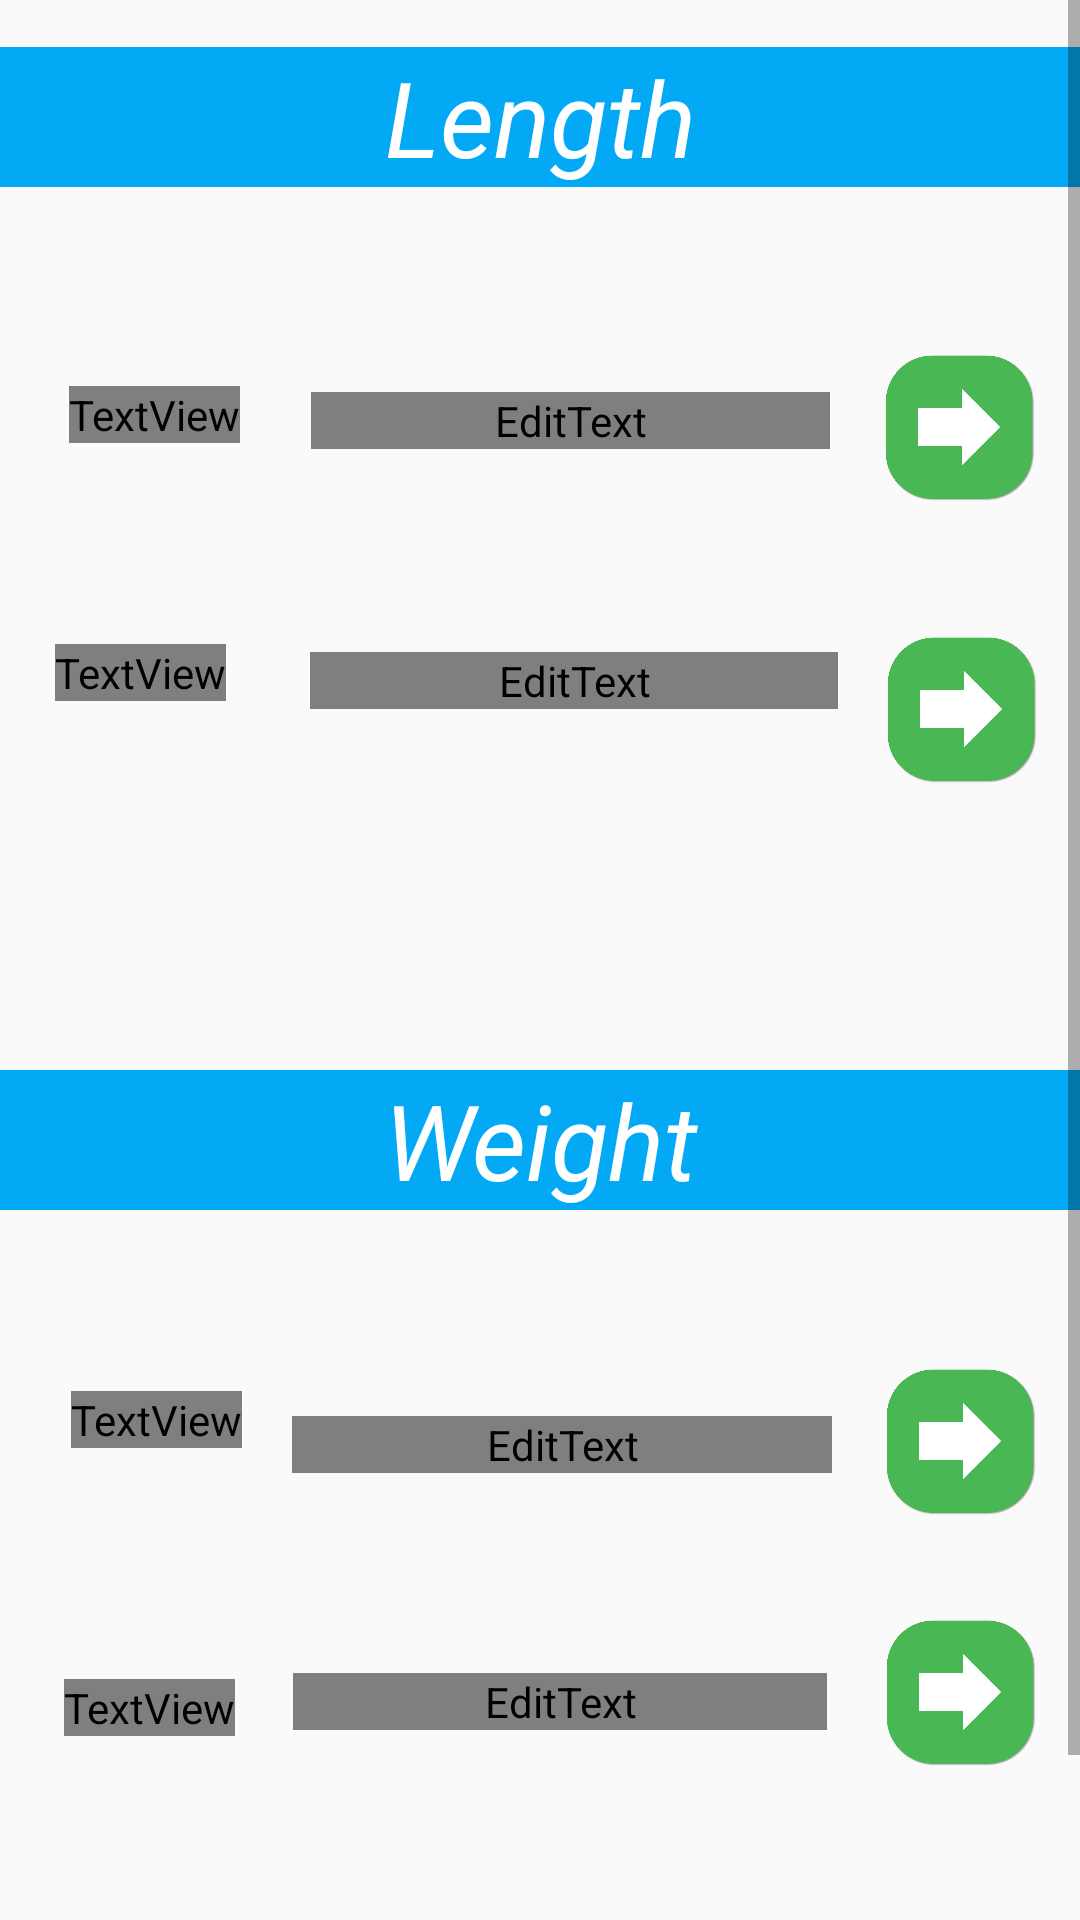

Point at icon controls on the screen. Image size 1080 × 1920, points as [x,y].
convert: [960,427], [962,709], [961,1441], [961,1692]
